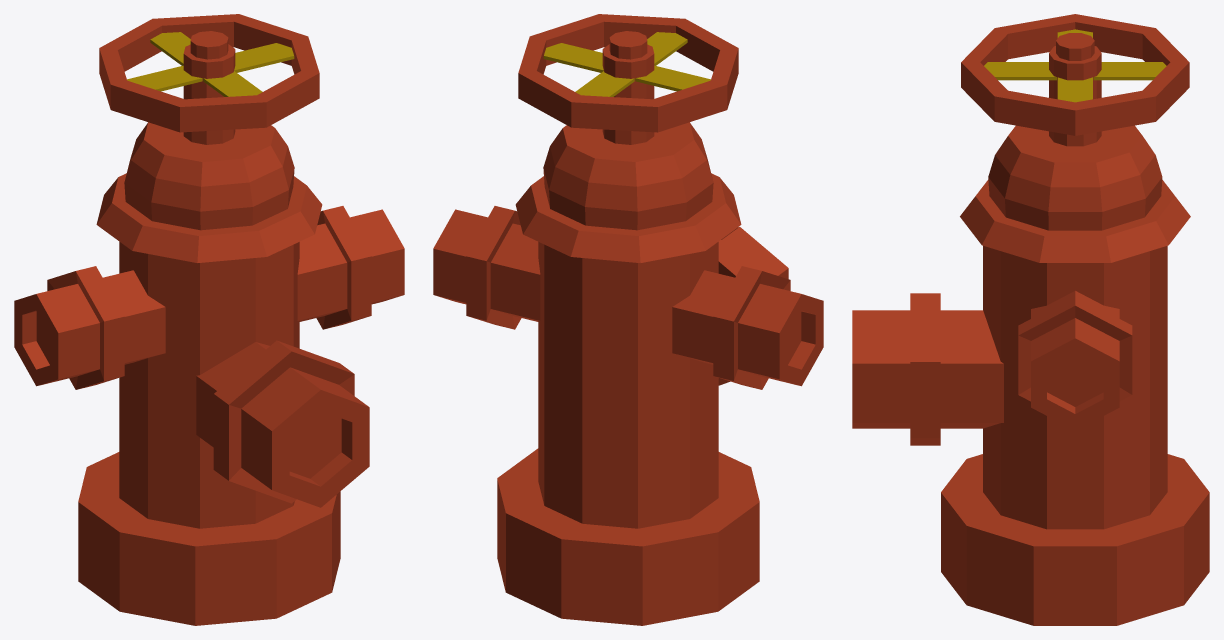
File: Hidrant_01.fbx
3 views of the same model, side by side, from view 1: azimuth 30°, elevation 25°; view 2: azimuth 150°, elevation 25°; view 3: azimuth 270°, elevation 25° (orthographic).
Parts seen in each view (by area): view 1: Hidrant_01; view 2: Hidrant_01; view 3: Hidrant_01.
Boxes of the visible parts, <box> form: Hidrant_01: <box>14,14,404,625</box>; Hidrant_01: <box>433,14,823,625</box>; Hidrant_01: <box>852,14,1209,625</box>.
Bounding box in the file's own units: 284 × 416 × 254.
